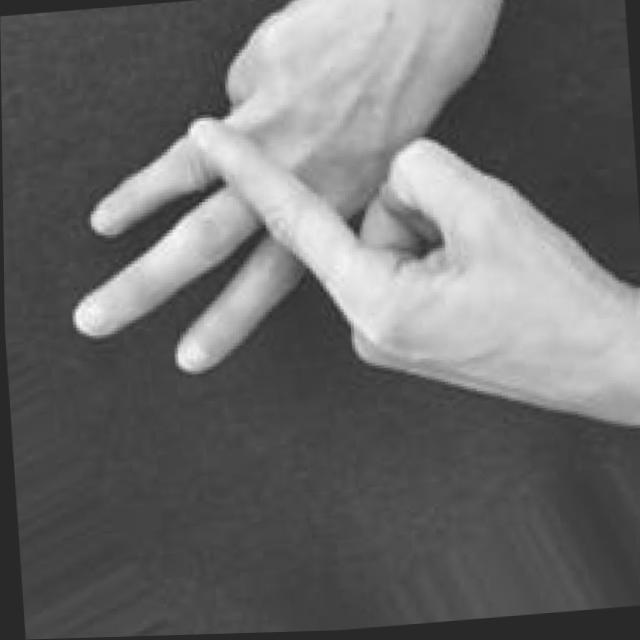E: (45, 0, 640, 472)
